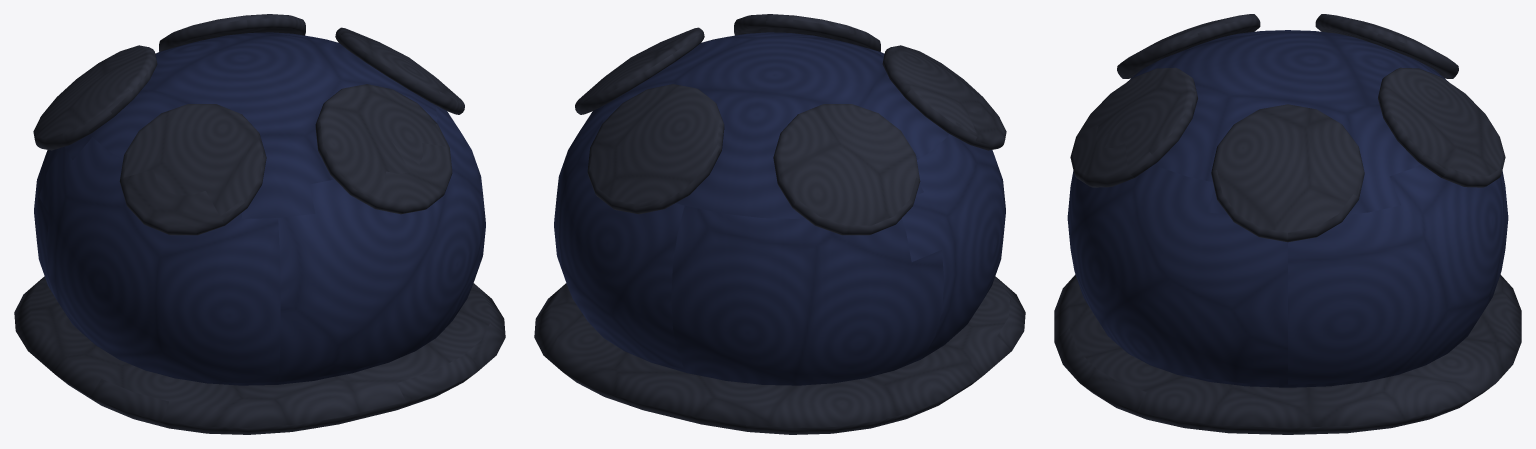
The model's file is beetle_shell.glb.
3 renders of one model, left to right at view 1: azimuth 30°, elevation 25°; view 2: azimuth 150°, elevation 25°; view 3: azimuth 270°, elevation 25°, orthographic.
Parts seen in each view (by area): view 1: beetle_shell; view 2: beetle_shell; view 3: beetle_shell.
Part boxes in pixels (left/top/right/bottom): beetle_shell: left=14, top=14, right=505, bottom=434; beetle_shell: left=534, top=14, right=1025, bottom=434; beetle_shell: left=1054, top=14, right=1521, bottom=434.
Bounding box in the file's own units: 1 × 0.7274 × 0.9756.
2 materials, 2 textured.
